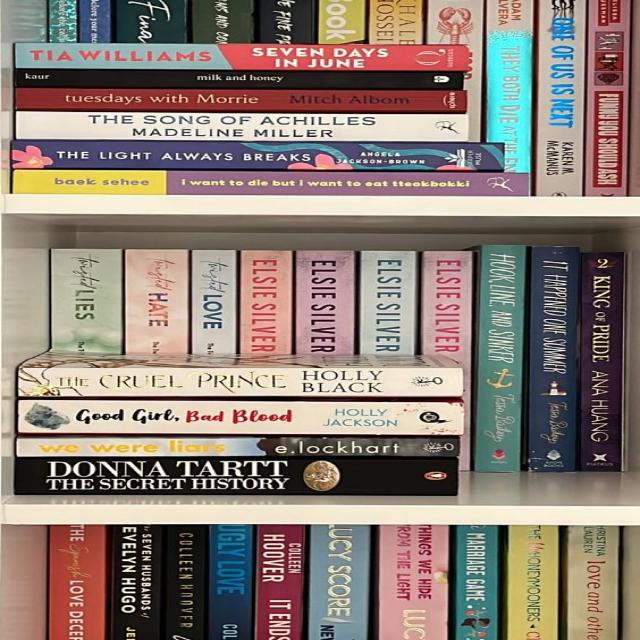book: (13, 458, 459, 494), (10, 142, 505, 171), (18, 402, 463, 434), (15, 112, 468, 142), (11, 170, 528, 196), (13, 43, 471, 71), (18, 368, 459, 396), (13, 88, 467, 112), (476, 243, 523, 471), (530, 246, 575, 471), (12, 68, 464, 89), (538, 0, 585, 196), (583, 252, 622, 469), (487, 0, 532, 174), (380, 525, 448, 640), (15, 439, 459, 456), (50, 250, 124, 351), (588, 0, 626, 194), (124, 249, 189, 354), (310, 525, 368, 640), (50, 524, 105, 640), (297, 250, 355, 354), (568, 526, 619, 640), (254, 525, 303, 640), (112, 524, 160, 640), (510, 524, 558, 640), (238, 250, 291, 355), (360, 251, 413, 354), (423, 250, 470, 355), (457, 524, 499, 640), (190, 249, 236, 354), (164, 524, 203, 640), (212, 524, 250, 640)
